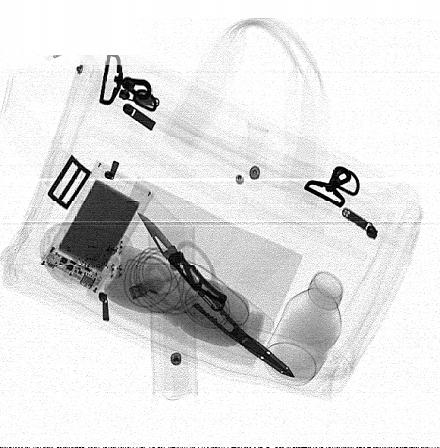Knife: (139, 212, 228, 311)
Powerbank: (39, 159, 154, 293)
Scissors: (143, 239, 298, 380)
